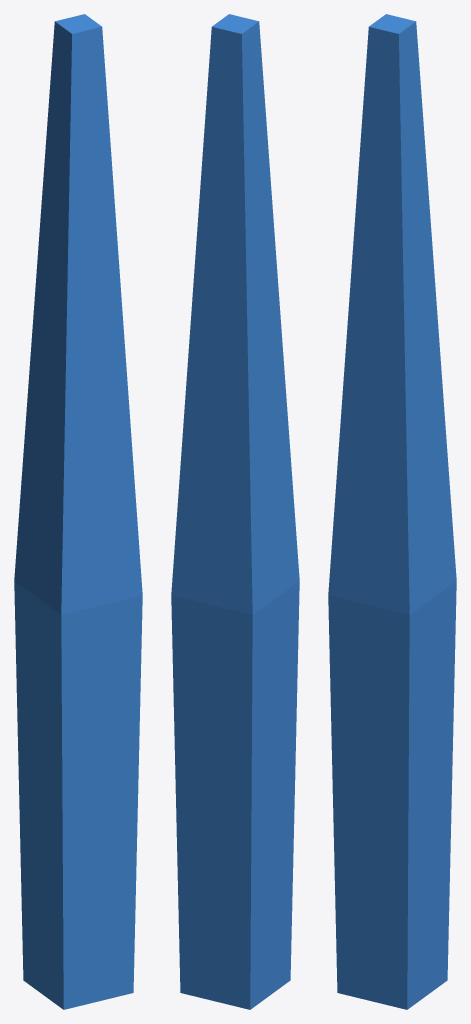
Rendered from Collision_Roof_Spike.fbx.
The picture shows the model from 3 angles, left to right: view 1: azimuth 30°, elevation 25°; view 2: azimuth 150°, elevation 25°; view 3: azimuth 330°, elevation 25°; orthographic projection.
Visible parts, largest first — view 1: UCX_Roof_Spike_1; view 2: UCX_Roof_Spike_1; view 3: UCX_Roof_Spike_1.
Part boxes in pixels (box(x1,y1,x2,y2)): UCX_Roof_Spike_1: box(14, 14, 142, 1009); UCX_Roof_Spike_1: box(171, 14, 299, 1009); UCX_Roof_Spike_1: box(328, 14, 456, 1009).
Size of the model in its own units: 19.26 by 218 by 19.26.
